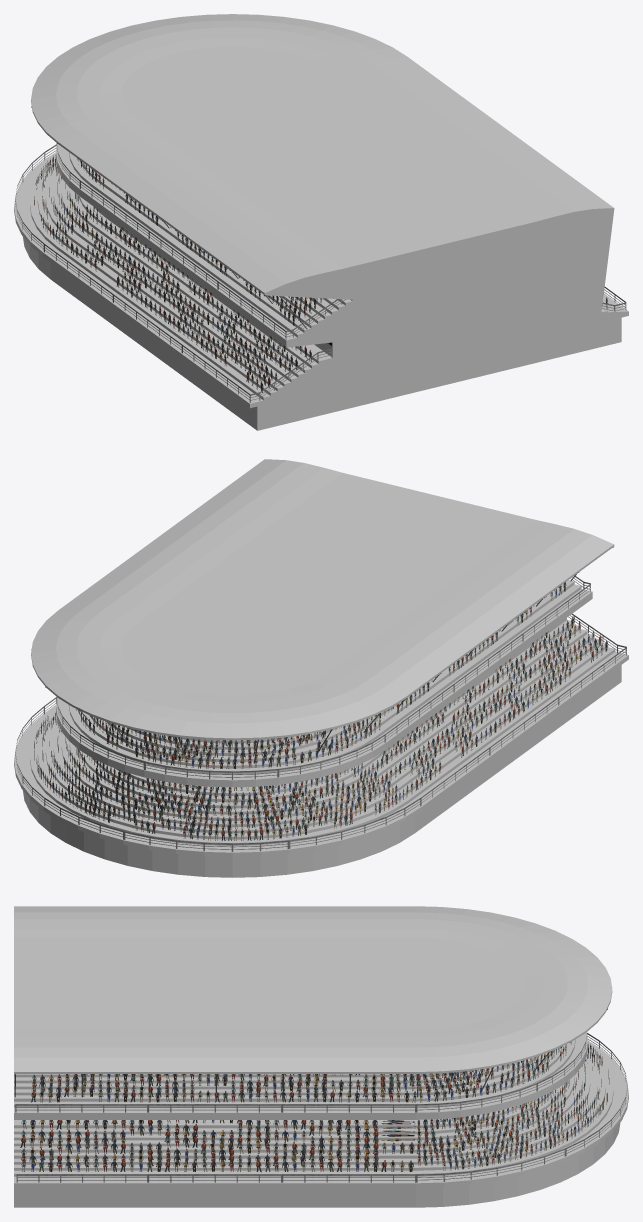
File: Stand-08.fbx
The picture shows the model from 3 angles, top to bottom: view 1: azimuth 30°, elevation 25°; view 2: azimuth 150°, elevation 25°; view 3: azimuth 270°, elevation 25°; orthographic projection. The views are drawn at different scales.
Visible parts, largest first — view 1: Stand-08, Audience; view 2: Stand-08, Audience; view 3: Stand-08, Audience.
Boxes of the visible parts, x1,y1,x2,y2 form: Stand-08: [14, 14, 628, 430]; Audience: [34, 155, 607, 392]; Stand-08: [14, 459, 628, 877]; Audience: [34, 582, 607, 840]; Stand-08: [14, 906, 628, 1207]; Audience: [20, 1042, 609, 1172].
Bounding box in the file's own units: 5514 × 1971 × 7967.
